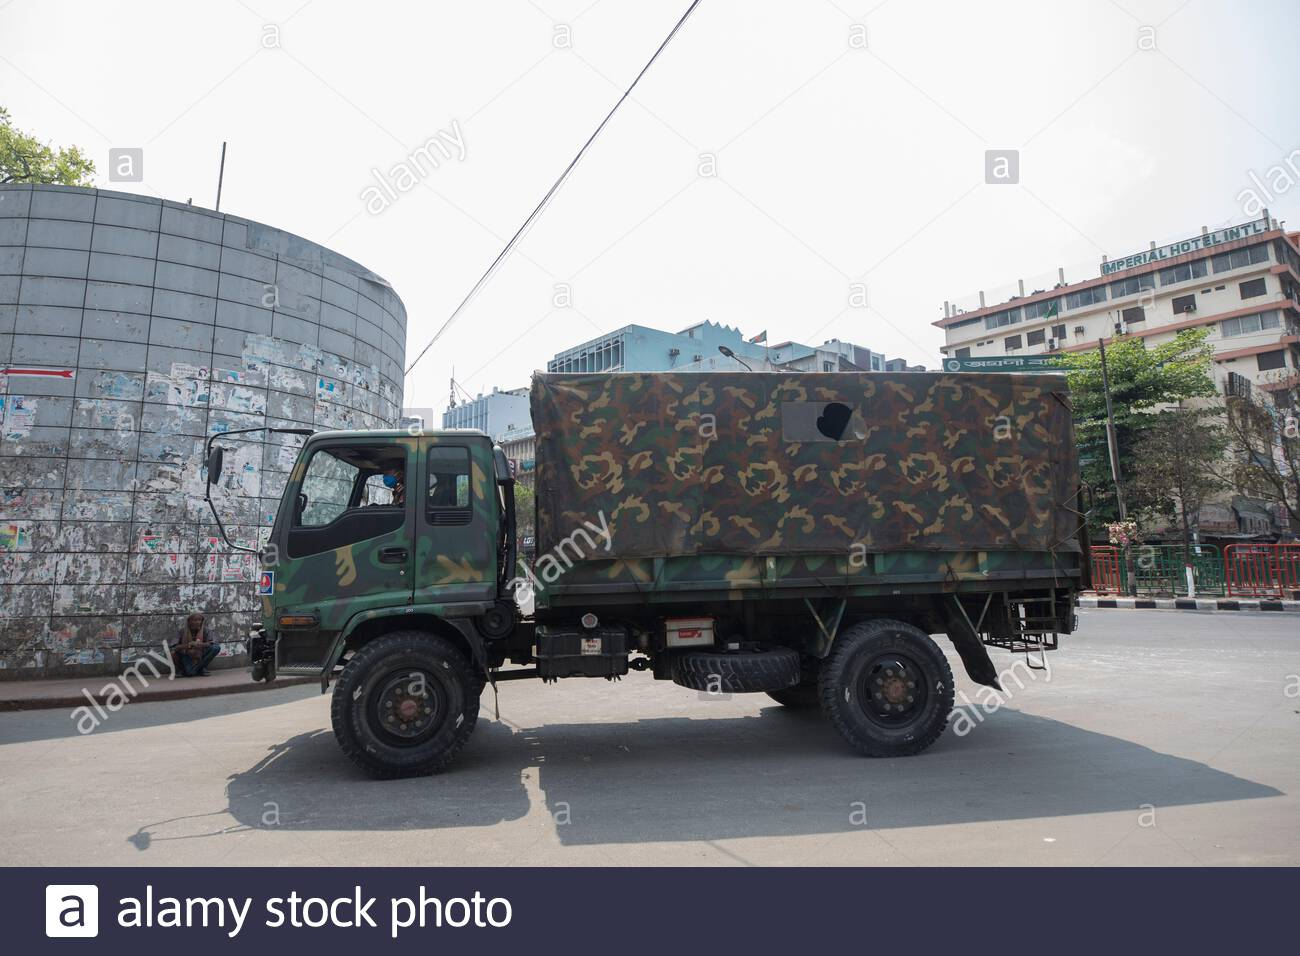army vehicle: (197, 369, 1093, 781)
